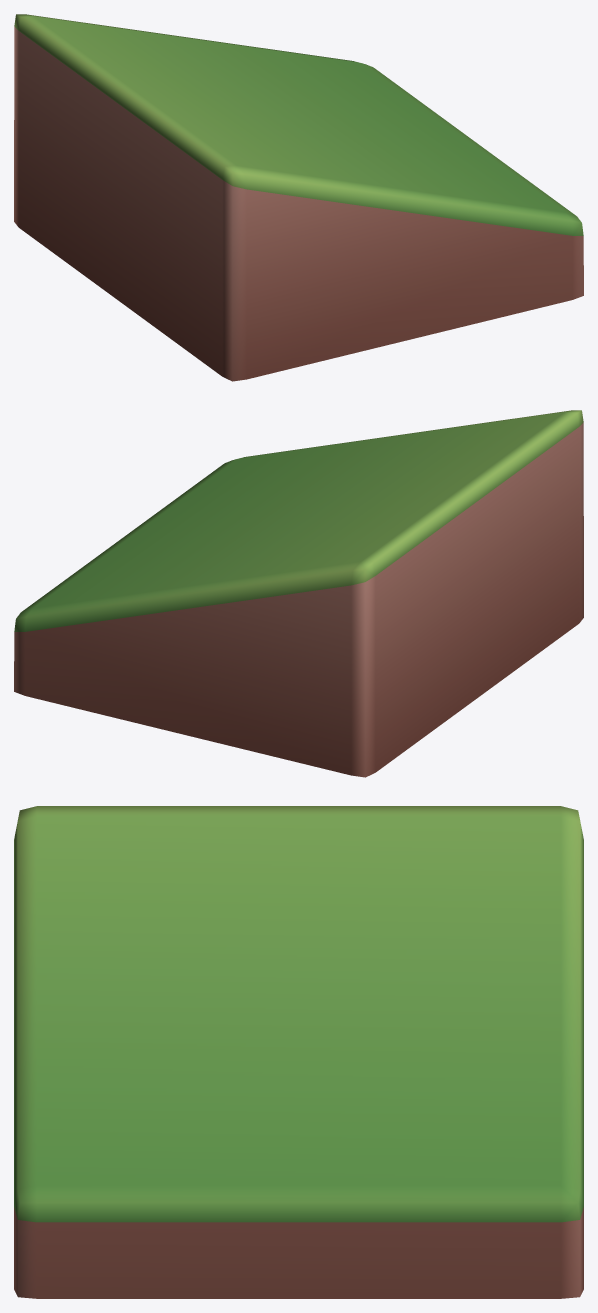
The model's file is Forest_RampBig.fbx.
3 renders of one model, top to bottom at view 1: azimuth 30°, elevation 25°; view 2: azimuth 150°, elevation 25°; view 3: azimuth 270°, elevation 25°, orthographic. The views are drawn at different scales.
Parts seen in each view (by area): view 1: Plane.064; view 2: Plane.064; view 3: Plane.064.
Boxes of the visible parts, x1=… form: Plane.064: x1=14, y1=14, x2=583, y2=381; Plane.064: x1=14, y1=410, x2=583, y2=777; Plane.064: x1=14, y1=806, x2=583, y2=1298.
Bounding box in the file's own units: 213 × 120 × 230.
